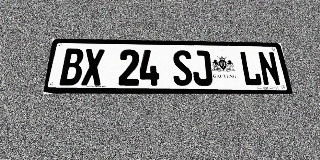2: (118, 49, 139, 86)
4: (139, 49, 159, 86)
B: (59, 48, 84, 85)
J: (191, 50, 213, 86)
L: (239, 51, 263, 86)
N: (257, 51, 282, 86)
S: (172, 50, 193, 86)
X: (81, 49, 105, 85)
